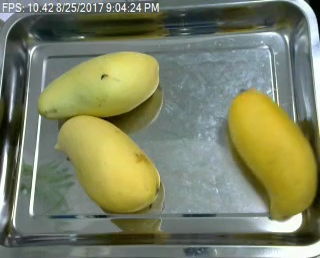Mango: (226, 85, 320, 219), (51, 116, 163, 213), (36, 49, 162, 120)
